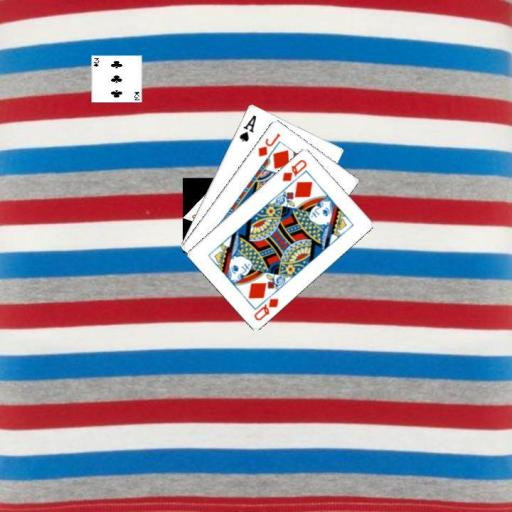AS: (236, 112, 258, 143)
JD: (255, 129, 282, 158)
QD: (279, 156, 309, 183), (250, 295, 280, 322)
